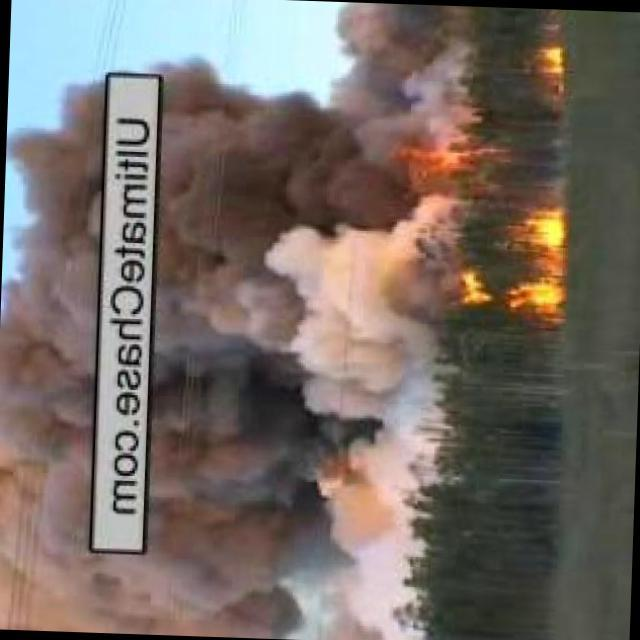Fire: (463, 204, 564, 325), (378, 141, 490, 195), (538, 38, 564, 89)
